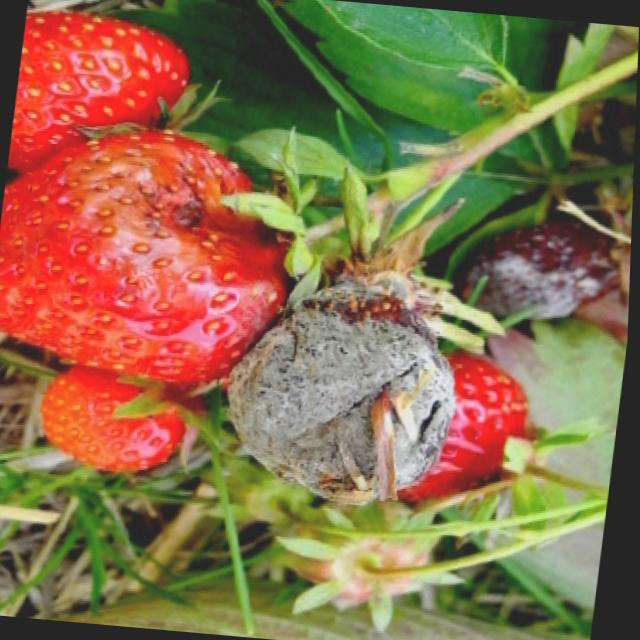Gray Mold: (227, 208, 457, 505), (468, 235, 619, 324)
